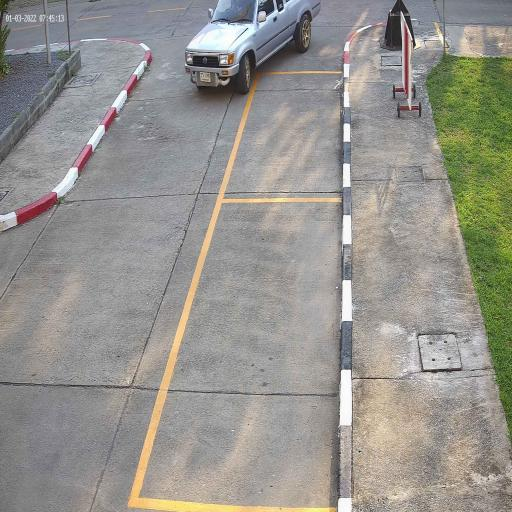car: (183, 0, 322, 92)
